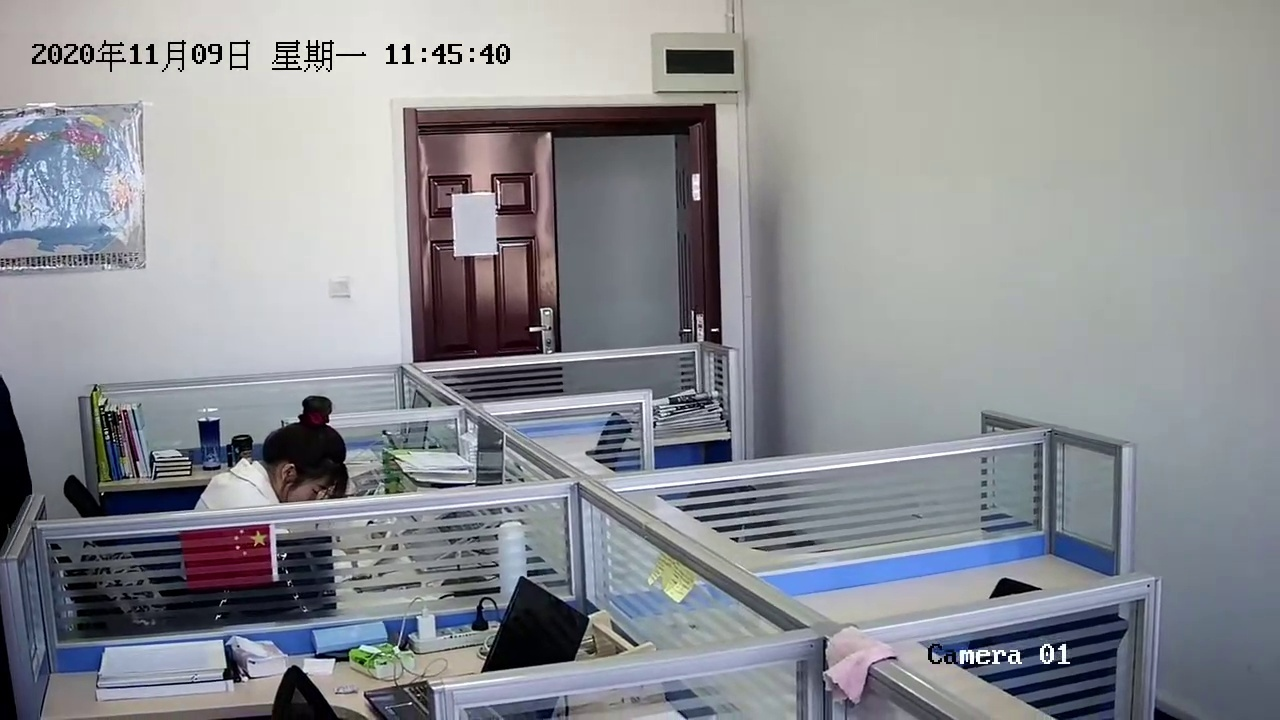mask: (261, 416, 356, 501)
